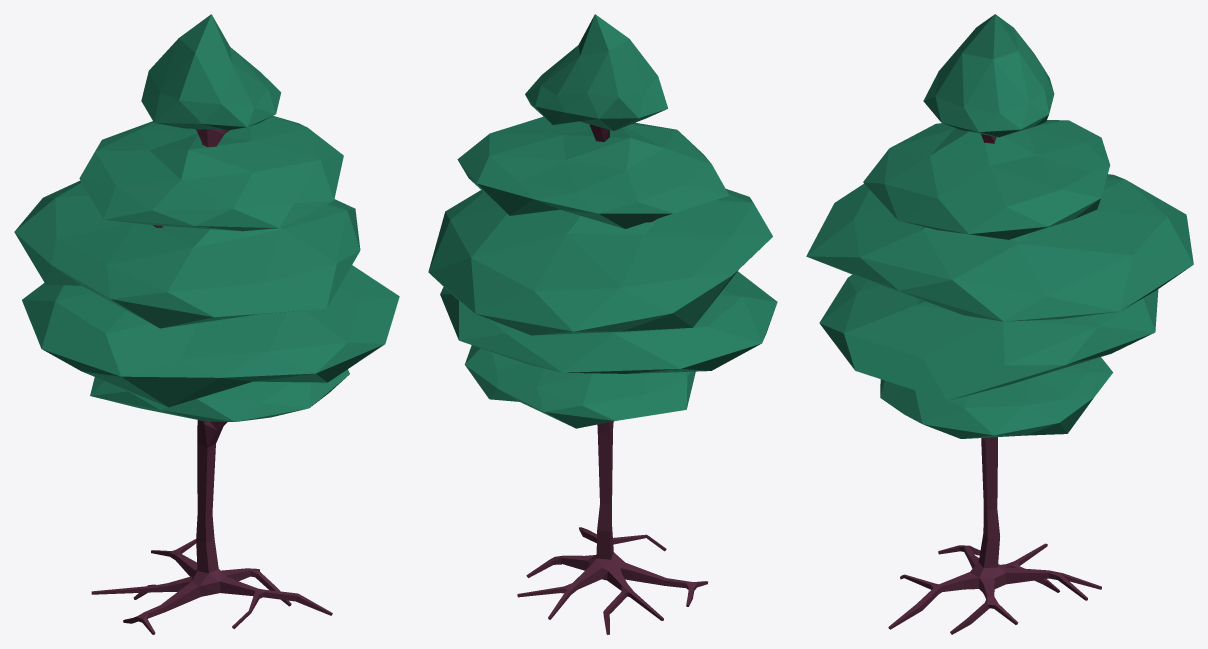
Rendered from tree_001_grp.fbx.
3 renders of one model, left to right at view 1: azimuth 30°, elevation 25°; view 2: azimuth 150°, elevation 25°; view 3: azimuth 270°, elevation 25°, orthographic. The views are drawn at different scales.
Visible parts, largest first — view 1: tree_001_grp; view 2: tree_001_grp; view 3: tree_001_grp.
Part boxes in pixels (x1,y1,x2,y2): tree_001_grp: (14, 14, 399, 634); tree_001_grp: (428, 14, 777, 634); tree_001_grp: (806, 14, 1193, 634).
Size of the model in its own units: 700 by 1197 by 700.
